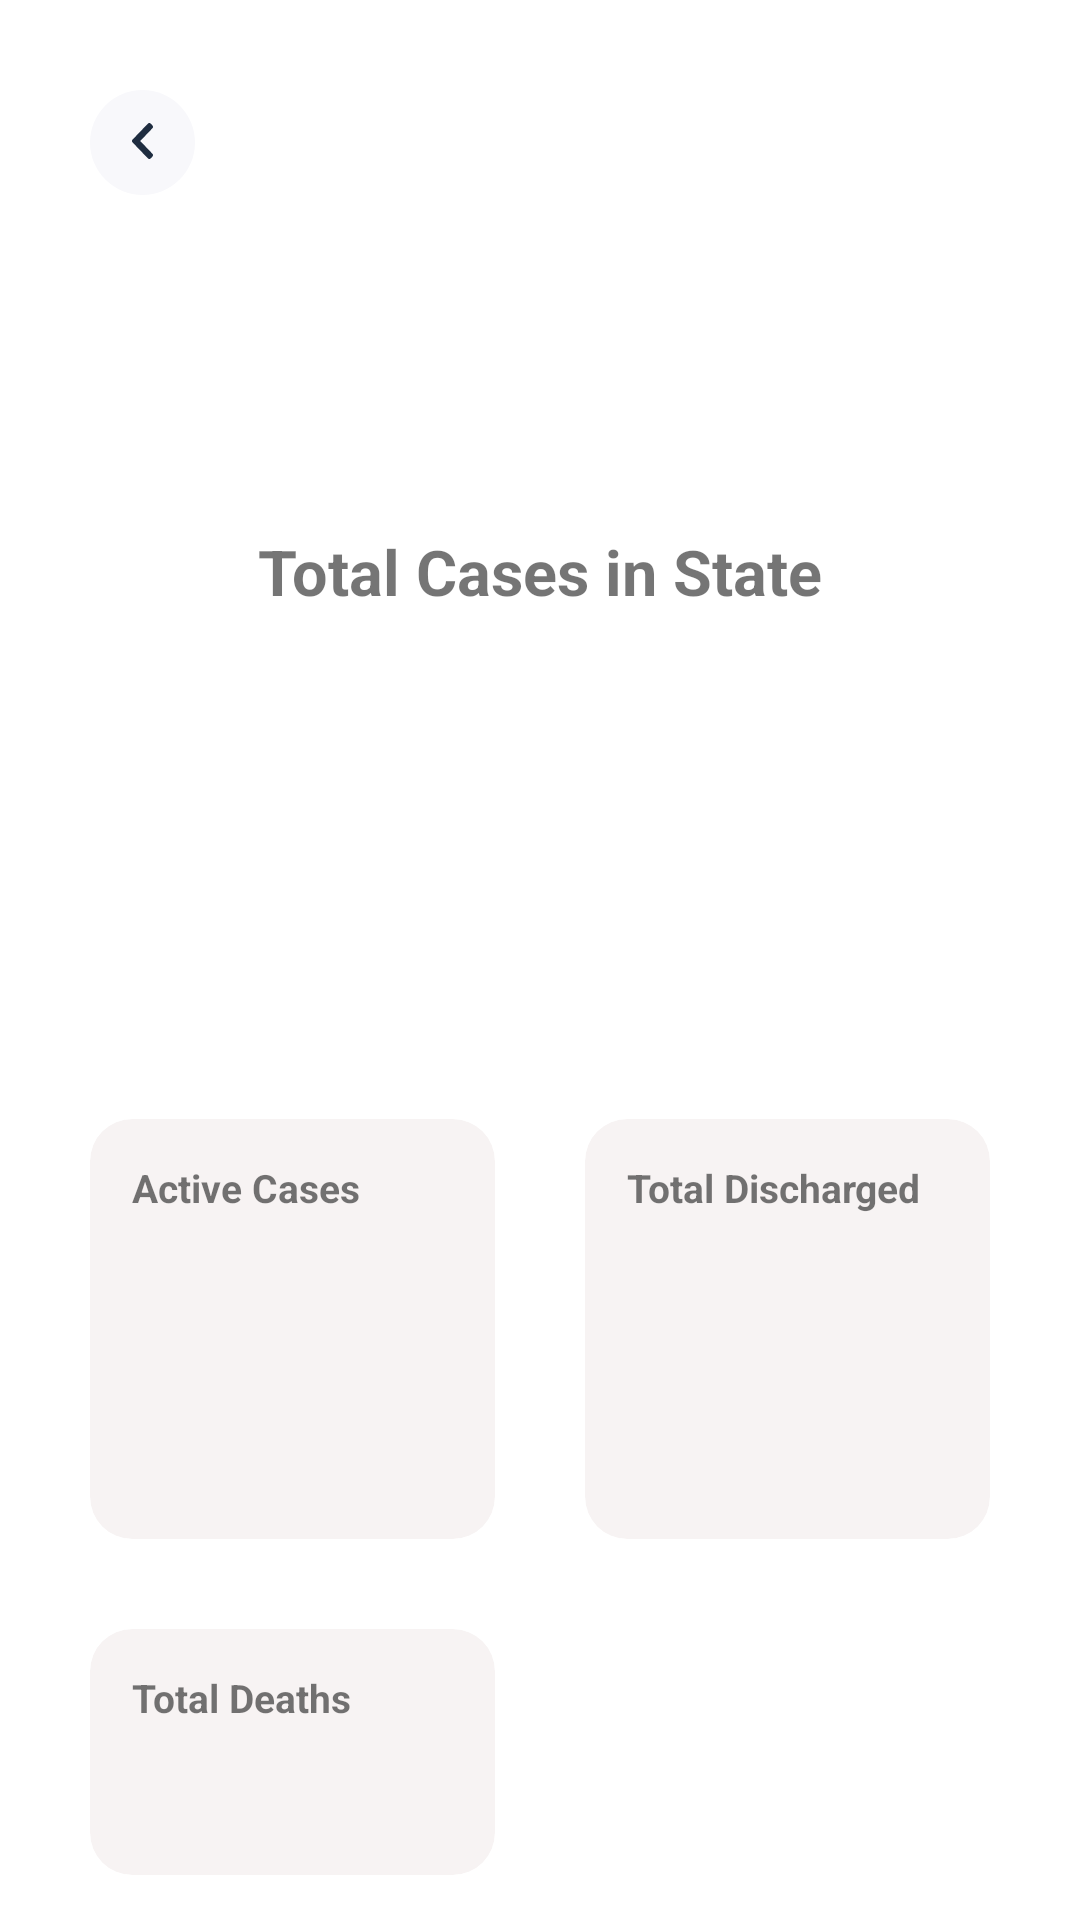

Where to tap for icons on this 1080w x 1920h app screen, as point (x, y):
circle back press: point (142, 141)
